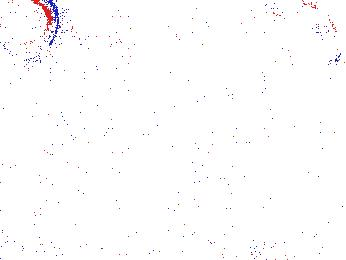moon jellyfish: (235, 16, 302, 115), (258, 1, 340, 66), (40, 35, 133, 81), (45, 131, 123, 177), (1, 1, 58, 61)
